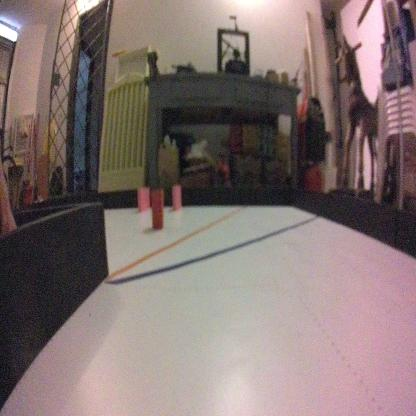magenta: (172, 182, 182, 212), (136, 184, 146, 213)
red: (149, 185, 165, 231)
